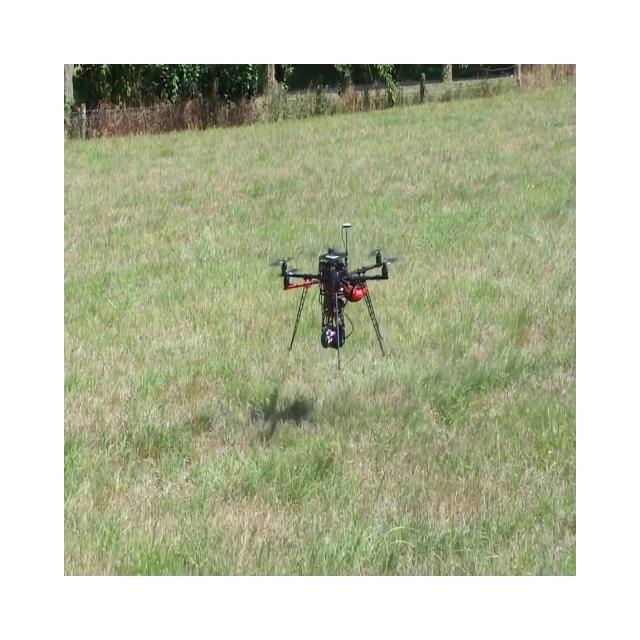drone: (270, 221, 396, 370)
